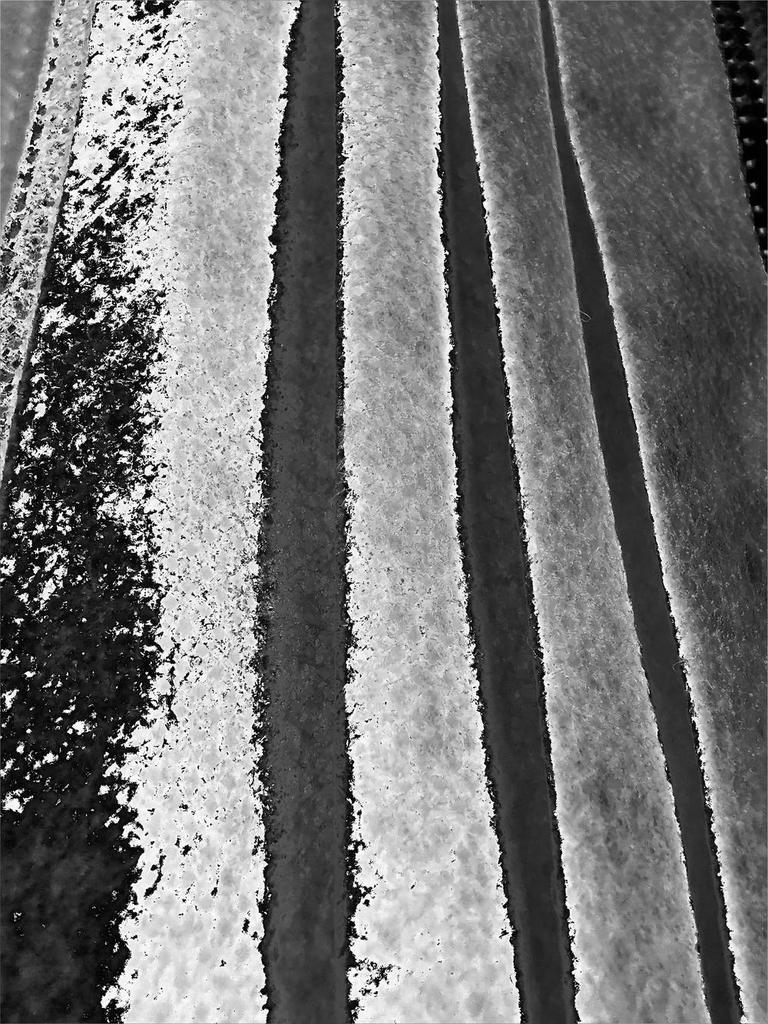High GSM: (1, 1, 766, 1022)
